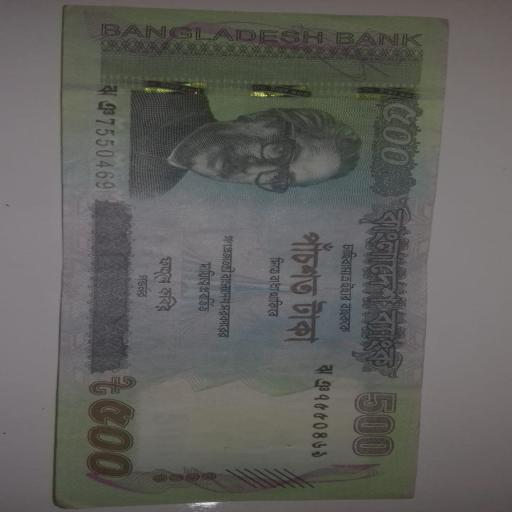500taka: (53, 6, 448, 508)
